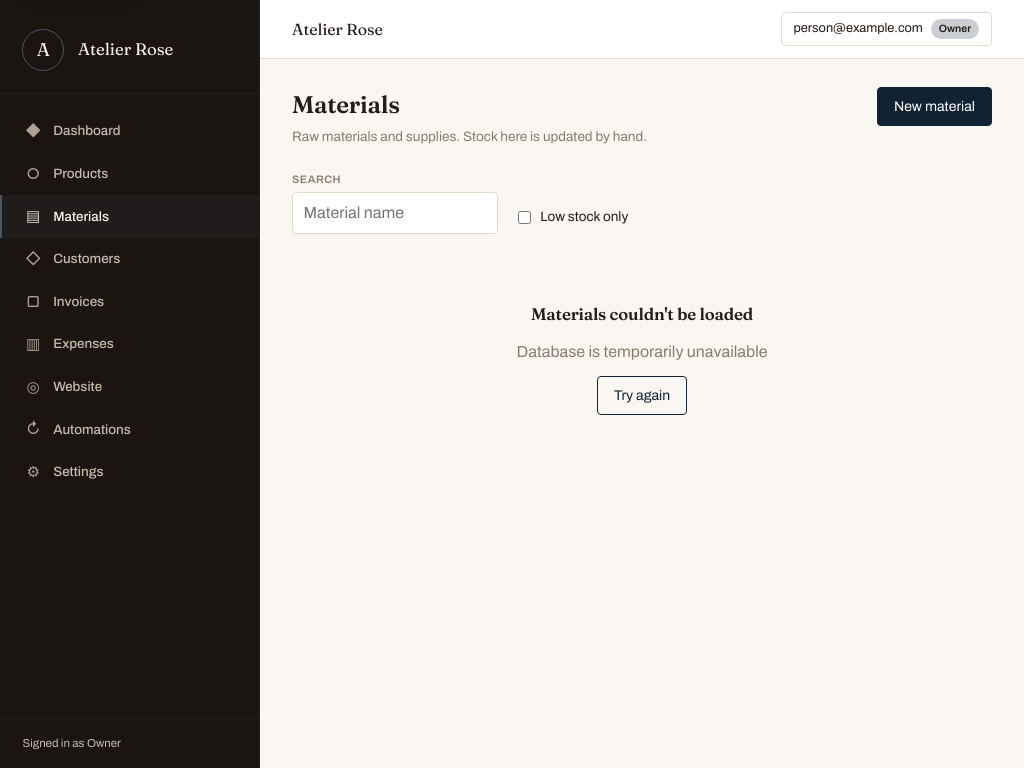
it: materials list › shows the error with a retry
Expected: the message shows "Database is temporarily unavailable", [516, 343, 768, 360]
Click the button "Try again". click: (642, 395)
box: [597, 376, 687, 415]
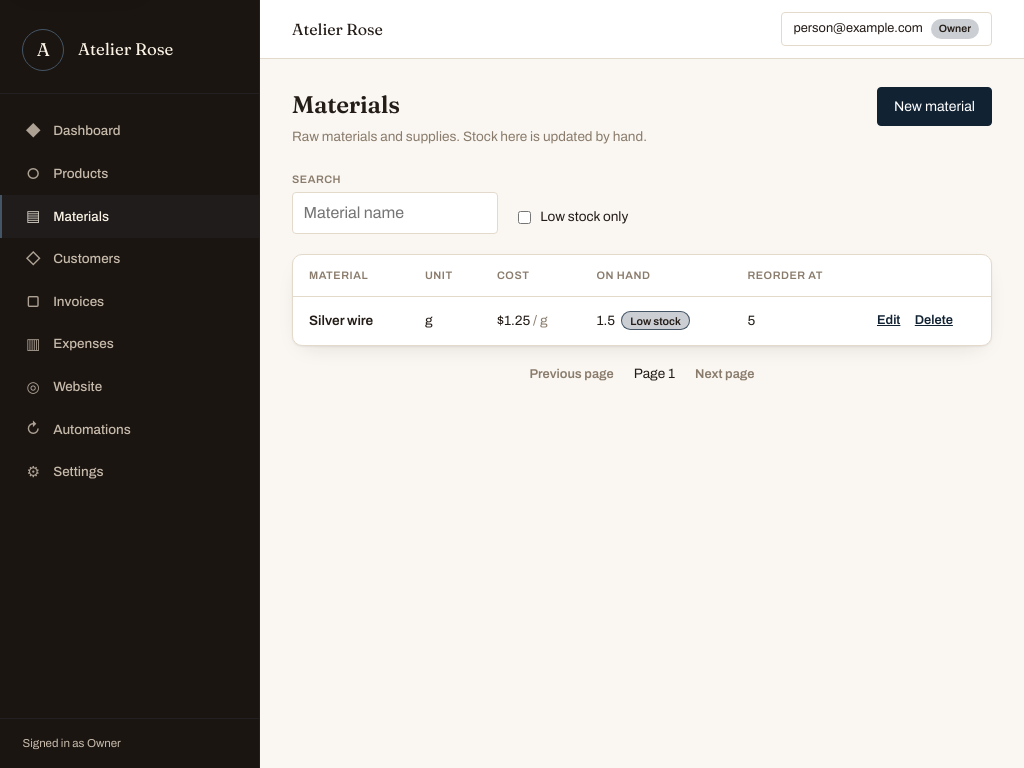
Now the cell "Silver wire" is shown, box [293, 297, 409, 345]
